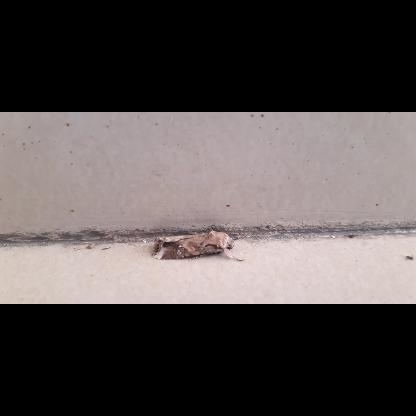Fall Armyworm Moth: (150, 229, 246, 263)
